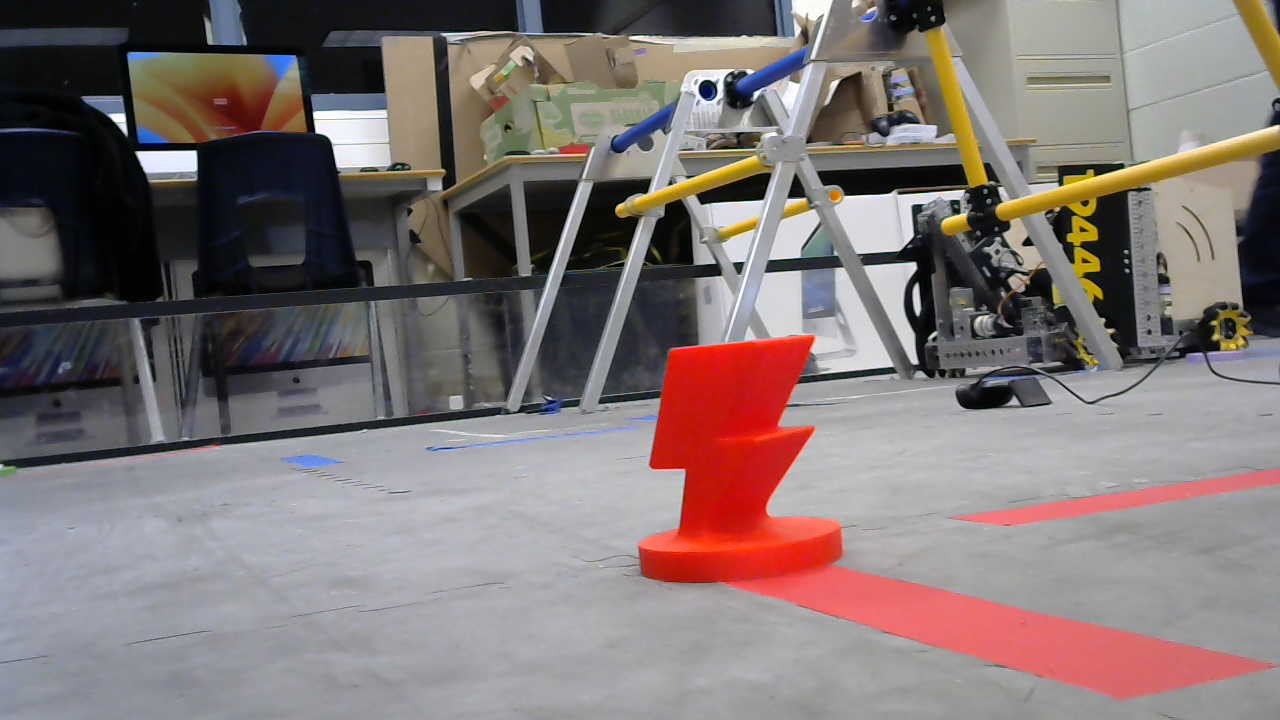redobject: (632, 329, 847, 594)
